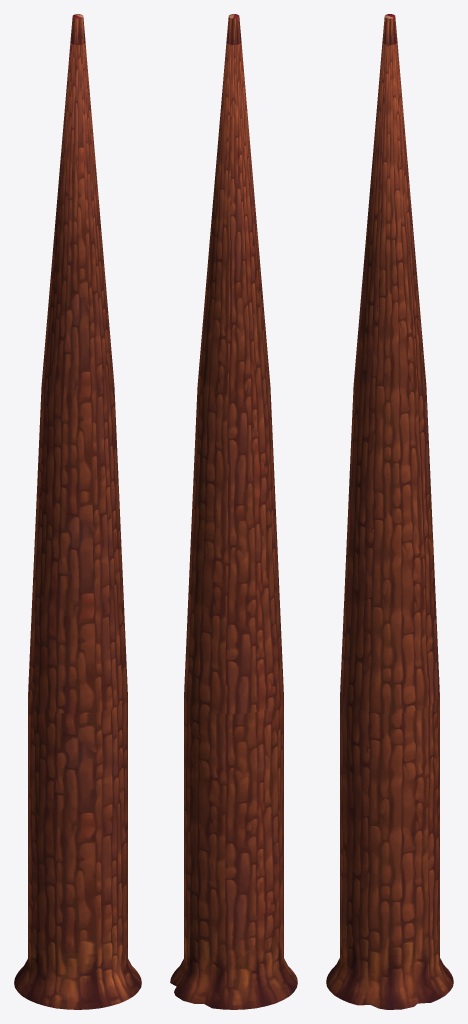
The model's file is test tree.FBX.
3 views of the same model, side by side, from view 1: azimuth 90°, elevation 25°; view 2: azimuth 210°, elevation 25°; view 3: azimuth 270°, elevation 25° (orthographic).
Visible parts, largest first — view 1: front ? tree006; view 2: front ? tree006; view 3: front ? tree006.
Part boxes in pixels (<box>): front ? tree006: <box>14,14,141,1009</box>; front ? tree006: <box>170,14,297,1009</box>; front ? tree006: <box>326,14,453,1009</box>.
Size of the model in its own units: 532 by 4362 by 522.
